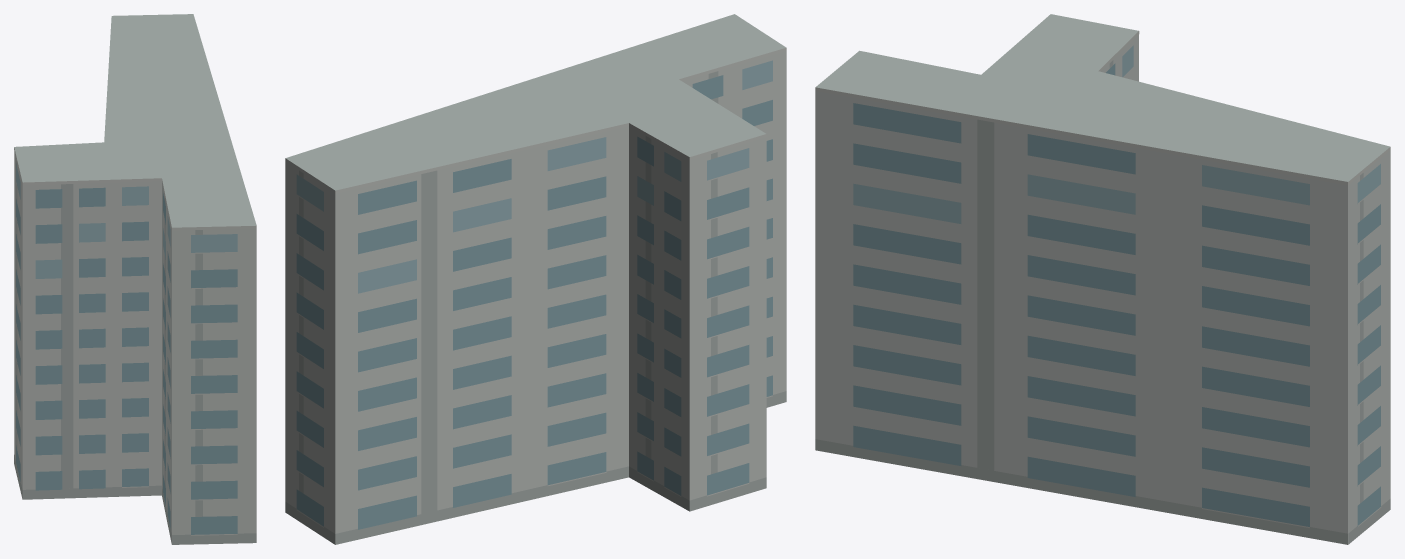
File: residential-525d3a81-b1cf-48fb-a721-23836a614416.glb
3 views of the same model, side by side, from view 1: azimuth 30°, elevation 25°; view 2: azimuth 150°, elevation 25°; view 3: azimuth 270°, elevation 25° (orthographic). The views are drawn at different scales.
Visible parts, largest first — view 1: residential-525d3a81-b1cf-48fb-a721-23836a614416.tmp; view 2: residential-525d3a81-b1cf-48fb-a721-23836a614416.tmp; view 3: residential-525d3a81-b1cf-48fb-a721-23836a614416.tmp.
Part boxes in pixels (x1,y1,x2,y2): residential-525d3a81-b1cf-48fb-a721-23836a614416.tmp: (14, 14, 256, 544); residential-525d3a81-b1cf-48fb-a721-23836a614416.tmp: (285, 14, 786, 544); residential-525d3a81-b1cf-48fb-a721-23836a614416.tmp: (815, 14, 1390, 544).
Size of the model in its own units: 25.81 by 26 by 37.36.
